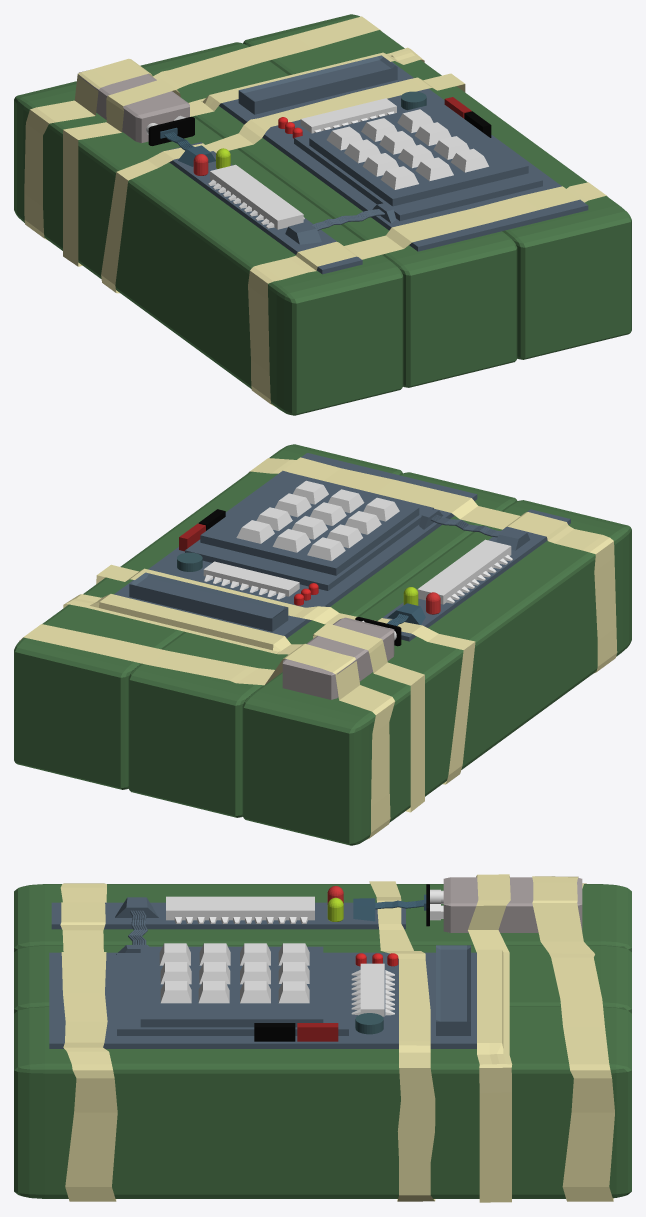
The picture shows the model from 3 angles, top to bottom: view 1: azimuth 30°, elevation 25°; view 2: azimuth 150°, elevation 25°; view 3: azimuth 270°, elevation 25°; orthographic projection. The views are drawn at different scales.
Visible parts, largest first — view 1: Cube.002, Cube, Cube.001, Cube.003, Plane, Plane.003, Plane.001, Plane.002, Cube.039, Cube.017, Cube.016, Cube.055 (+9 smaller); view 2: Cube.002, Cube, Cube.001, Cube.003, Plane.003, Plane, Plane.002, Plane.001, Cube.017, Cube.039, Cube.016, Cube.055 (+8 smaller); view 3: Cube.001, Cube.003, Cube.002, Plane.003, Plane, Plane.002, Plane.001, Cube, Cube.039, Cube.016, Cube.017, Cube.055 (+17 smaller).
Part boxes in pixels (x1,y1,x2,y2): Cube.002: [14, 81, 403, 415]; Cube: [140, 42, 517, 387]; Cube.001: [243, 14, 631, 359]; Cube.003: [219, 55, 588, 251]; Plane: [248, 182, 607, 406]; Plane.003: [24, 16, 381, 240]; Plane.001: [101, 73, 465, 293]; Plane.002: [63, 47, 424, 266]; Cube.039: [208, 164, 304, 229]; Cube.017: [79, 70, 189, 143]; Cube.016: [161, 142, 362, 274]; Cube.055: [300, 98, 396, 133]; Cube.002: [242, 500, 631, 845]; Cube: [128, 472, 517, 817]; Cube.001: [14, 444, 402, 789]; Cube.003: [114, 453, 477, 638]; Plane.003: [19, 624, 394, 839]; Plane: [248, 457, 617, 673]; Plane.002: [63, 594, 424, 812]; Plane.001: [96, 564, 475, 784]; Cube.017: [282, 617, 394, 699]; Cube.039: [417, 539, 512, 604]; Cube.016: [382, 509, 570, 641]; Cube.055: [203, 561, 299, 599]; Cube.001: [14, 1006, 631, 1198]; Cube.003: [49, 945, 476, 1048]; Cube.002: [14, 884, 631, 951]; Plane.003: [532, 876, 614, 1201]; Plane: [60, 883, 117, 1201]; Plane.002: [468, 874, 512, 1202]; Plane.001: [369, 881, 435, 1201]; Cube: [14, 945, 631, 1013]; Cube.039: [166, 896, 314, 923]; Cube.016: [51, 902, 405, 929]; Cube.017: [443, 877, 582, 932]; Cube.055: [351, 963, 394, 1016].
Size of the model in its own units: 599 by 255 by 832.
